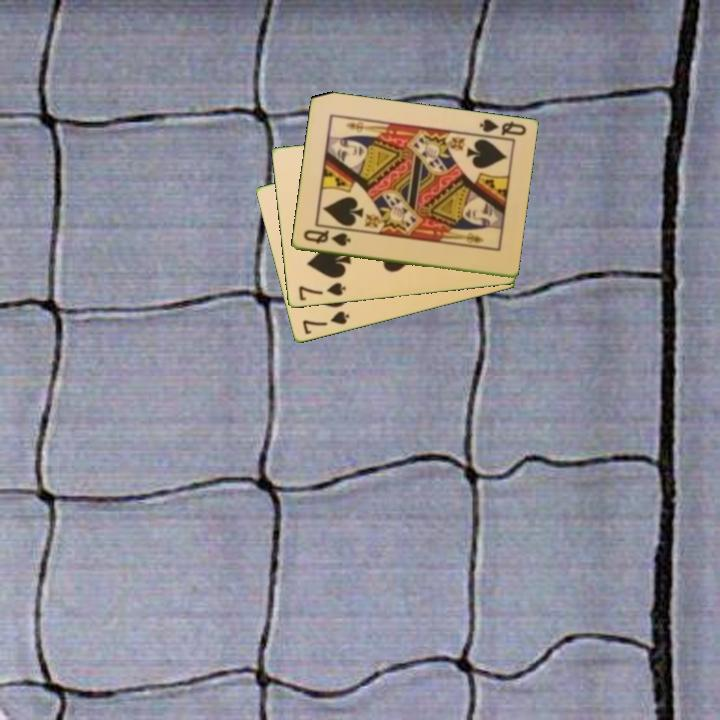7s: (299, 308, 352, 337), (295, 279, 348, 304)
Qs: (300, 226, 353, 250), (476, 116, 529, 139)
